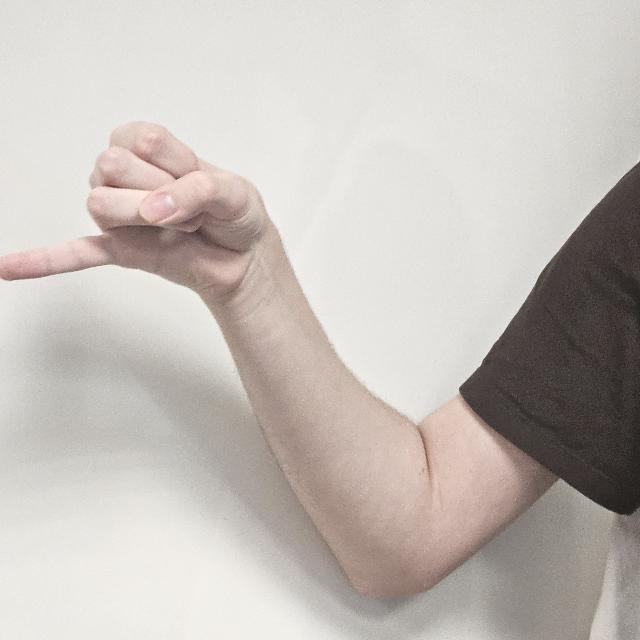Esquerda: (8, 110, 270, 356)
